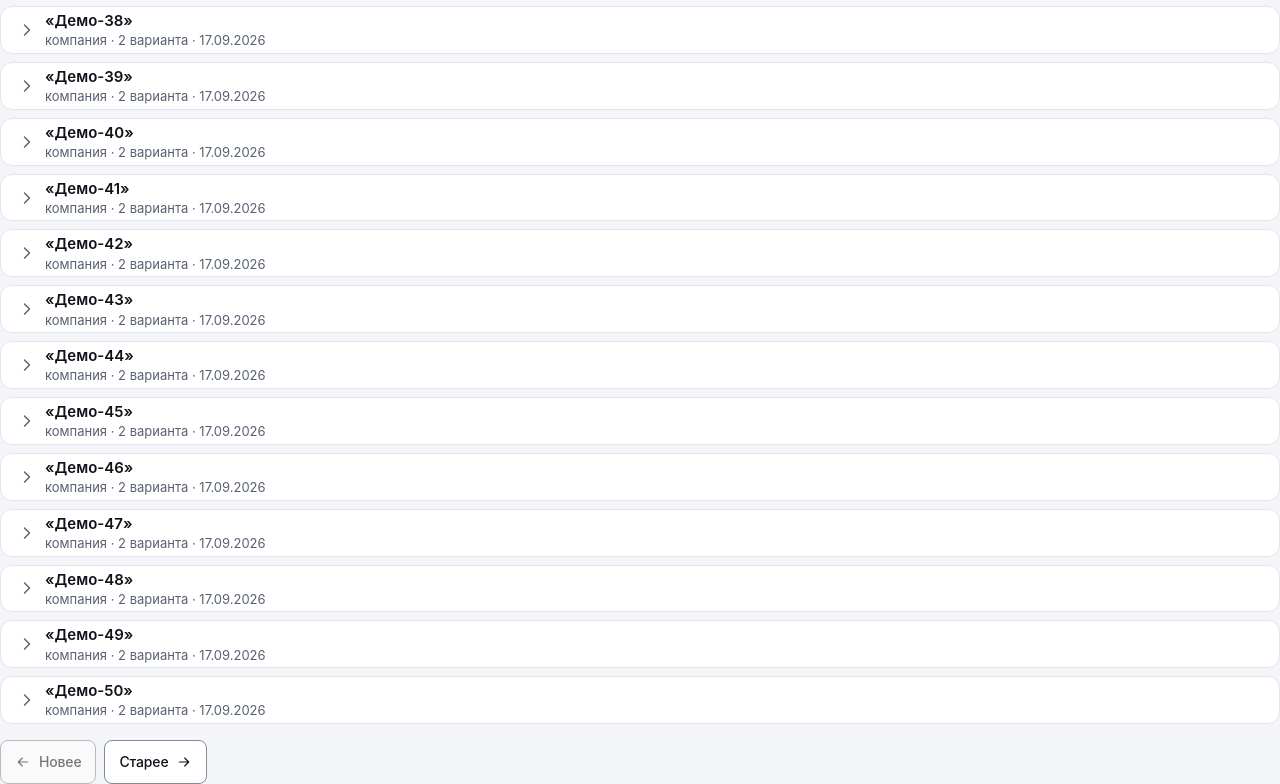
Test case: AmbiguityList — «всего» по фильтру, а не длина страницы › 250 открытых, страница 50: показано «всего 250», курсор уходит в запрос, «Новее» возвращает
(page scrolled)
Expected: the button "Новее" is disabled, [0,740,96,783]
Click the button "Старее". click: (156, 762)
box: [104,740,208,783]
(page scrolled)
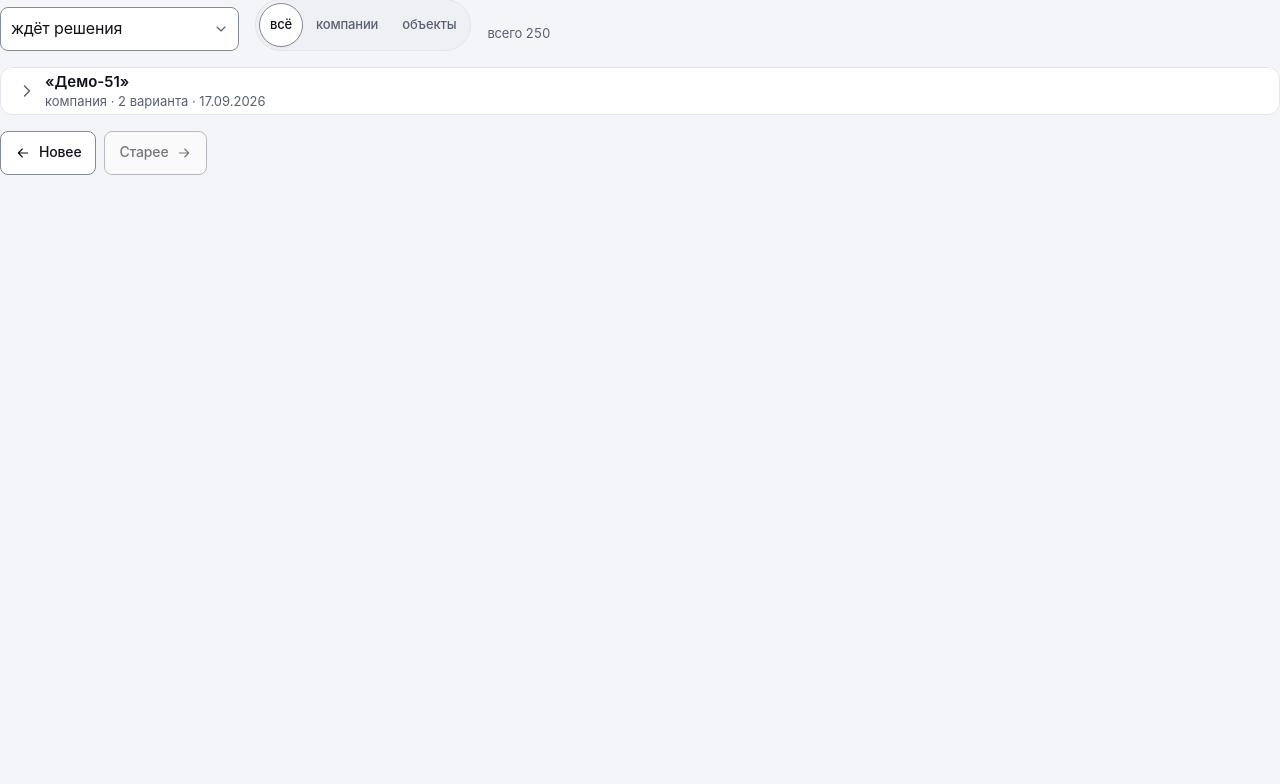
Now the text "«Демо-51»" is shown, box [45,72,129,91]
Click the button "Новее". click: (48, 153)
box: [0,131,96,175]
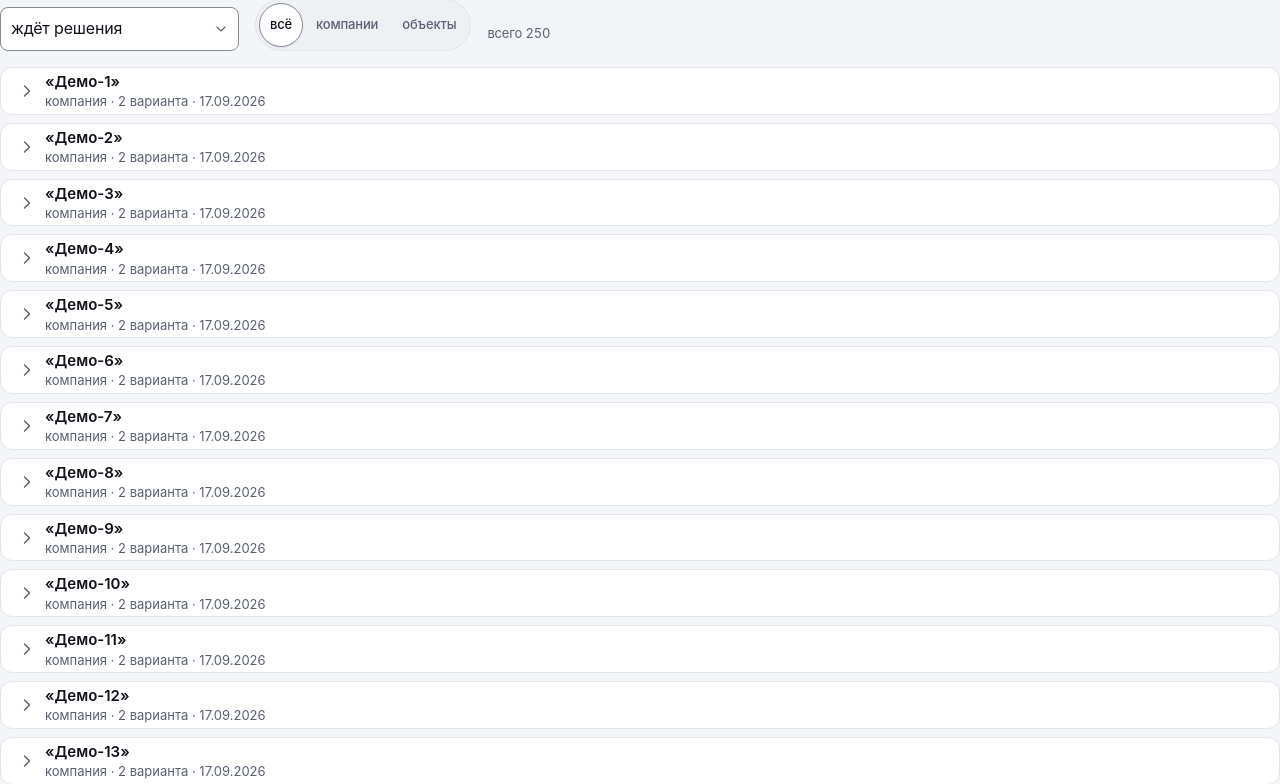
Now the text "«Демо-1»" is shown, box [45,72,120,91]
